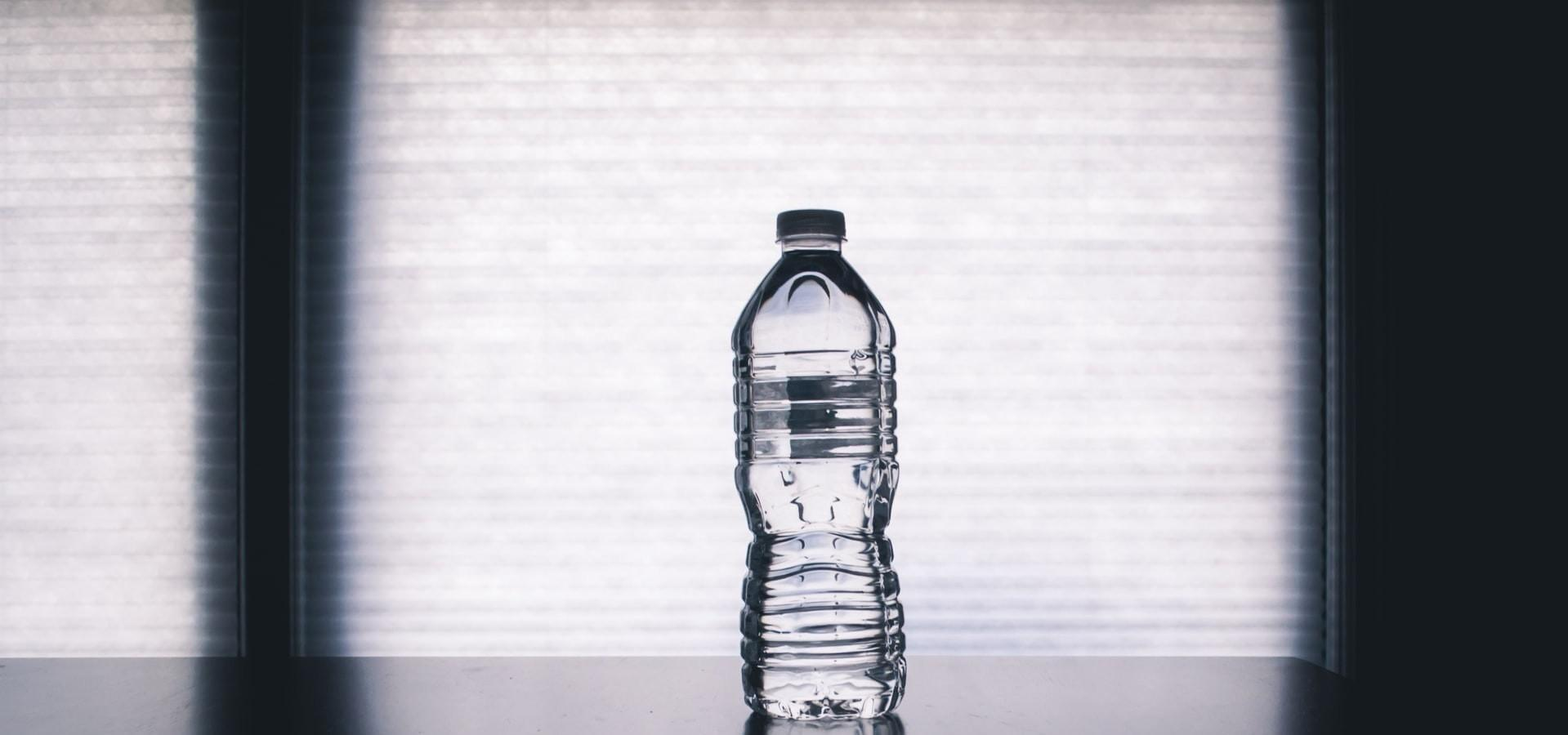bottle-plastic: (728, 201, 911, 734)
